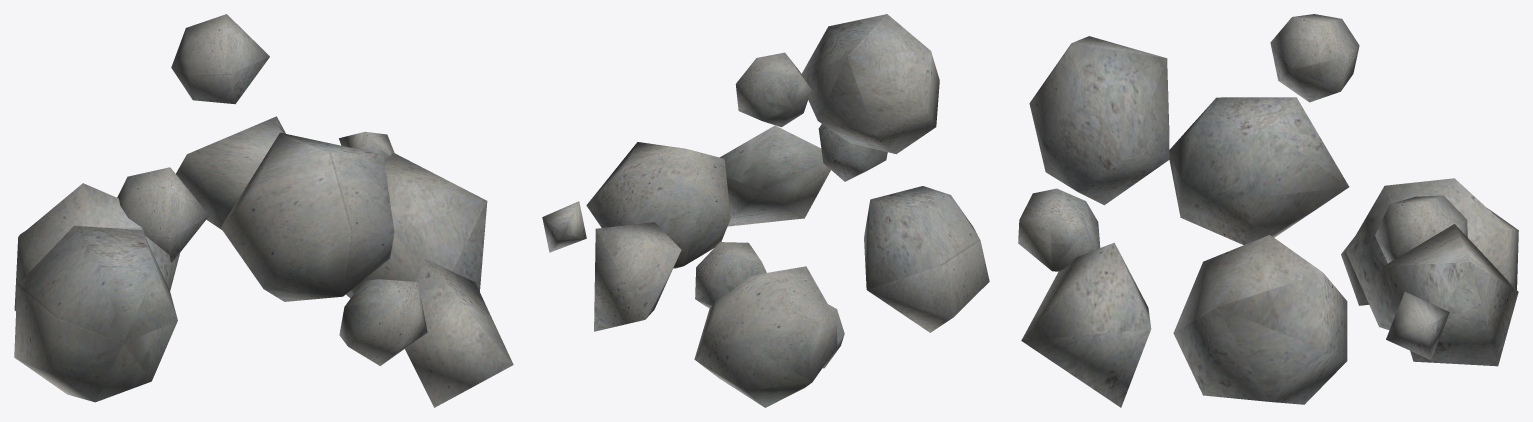
Rendered from stone_effect5.obj.
The picture shows the model from 3 angles, left to right: view 1: azimuth 30°, elevation 25°; view 2: azimuth 150°, elevation 25°; view 3: azimuth 270°, elevation 25°; orthographic projection. The views are drawn at different scales.
Parts seen in each view (by area): view 1: Sphere011; view 2: Sphere011; view 3: Sphere011.
Part boxes in pixels (x1,y1,x2,y2): Sphere011: (14,14,513,407); Sphere011: (542,14,989,407); Sphere011: (1018,14,1518,407).
Bounding box in the file's own units: 139 × 105 × 138.
1 material, 1 textured.
